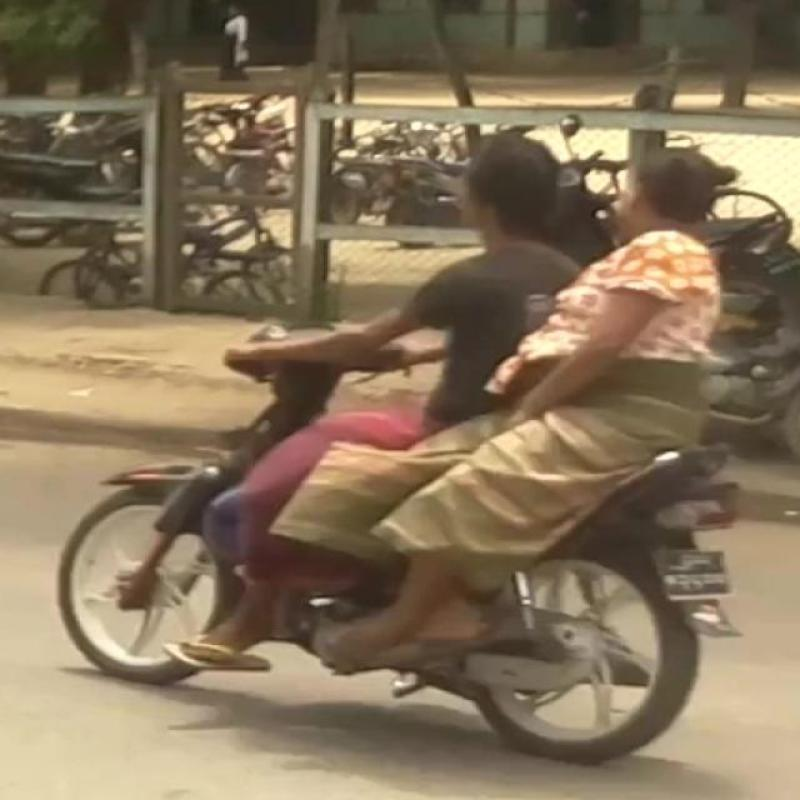nohelmet: (448, 113, 573, 262), (612, 112, 736, 250)
